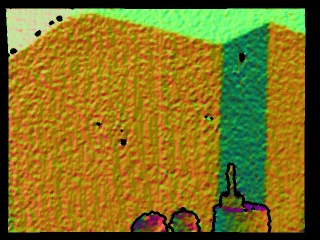station: (220, 163, 244, 209)
